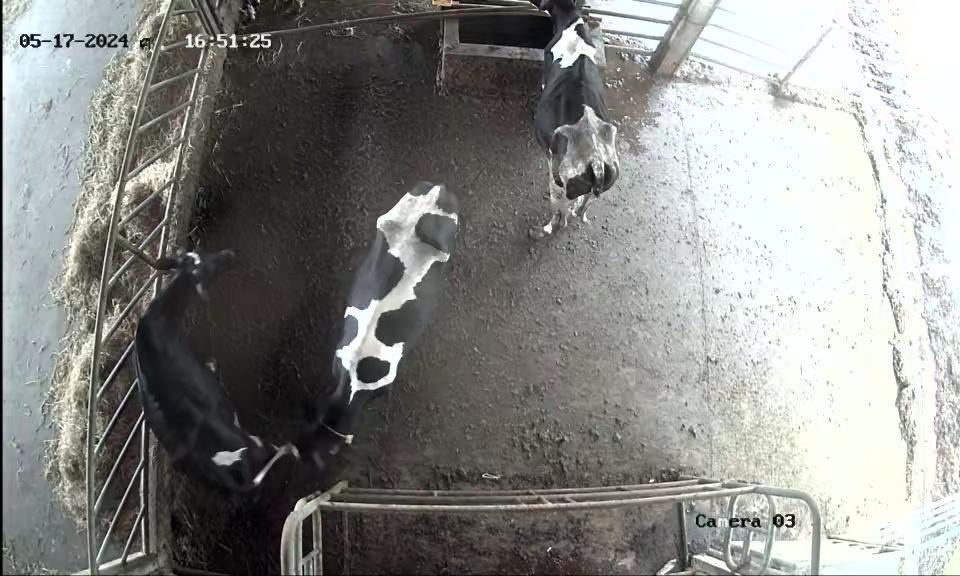drink: (523, 0, 600, 91)
stand: (299, 174, 478, 467), (129, 248, 292, 500)
